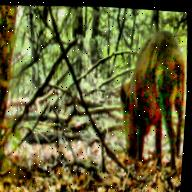boar: (103, 13, 192, 190)
